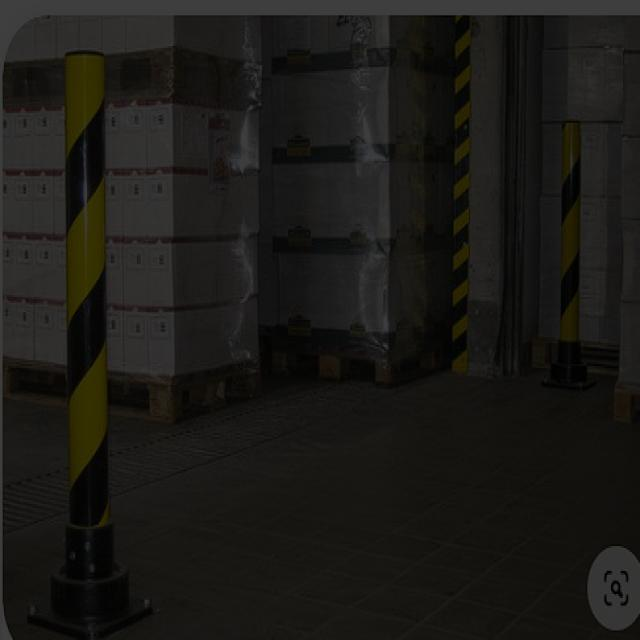obstacle: (54, 44, 120, 602), (551, 110, 590, 380)
